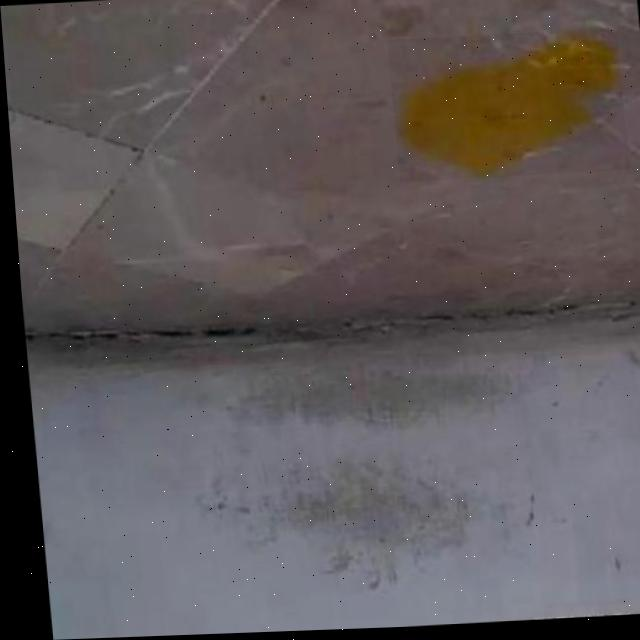spillage: (391, 35, 619, 181)
